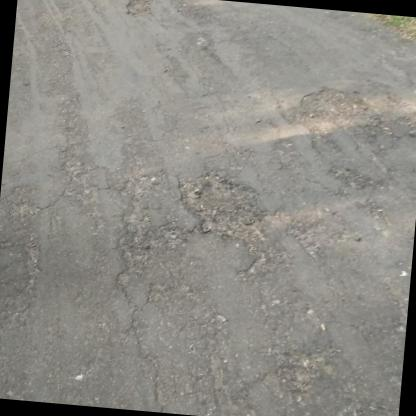pothole: (182, 170, 276, 245), (298, 83, 372, 123), (123, 0, 156, 20)
